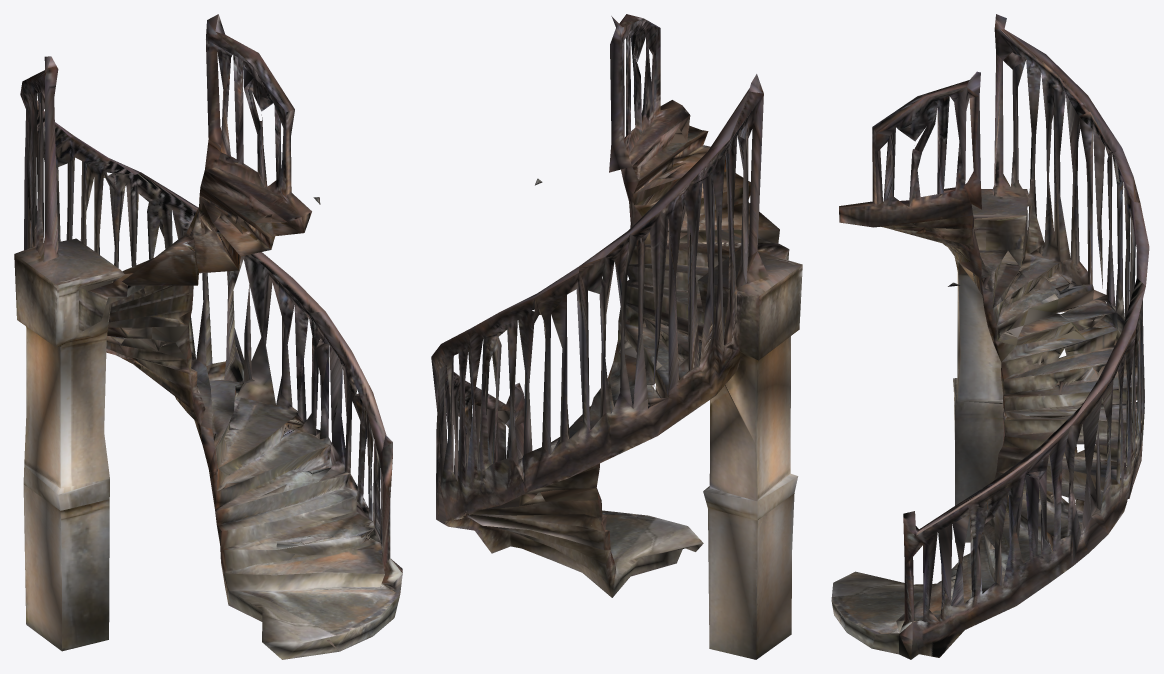
The model's file is staircase2.fbx.
The picture shows the model from 3 angles, left to right: view 1: azimuth 30°, elevation 25°; view 2: azimuth 150°, elevation 25°; view 3: azimuth 270°, elevation 25°; orthographic projection. The views are drawn at different scales.
Parts seen in each view (by area): view 1: Mesh1_Mesh1.021; view 2: Mesh1_Mesh1.021; view 3: Mesh1_Mesh1.021.
Part boxes in pixels (x1=…): Mesh1_Mesh1.021: x1=14, y1=14, x2=402, y2=659; Mesh1_Mesh1.021: x1=431, y1=14, x2=802, y2=659; Mesh1_Mesh1.021: x1=831, y1=14, x2=1149, y2=659.
Size of the model in its own units: 117 by 202 by 111.
Materials: 1 (1 with a texture image).
